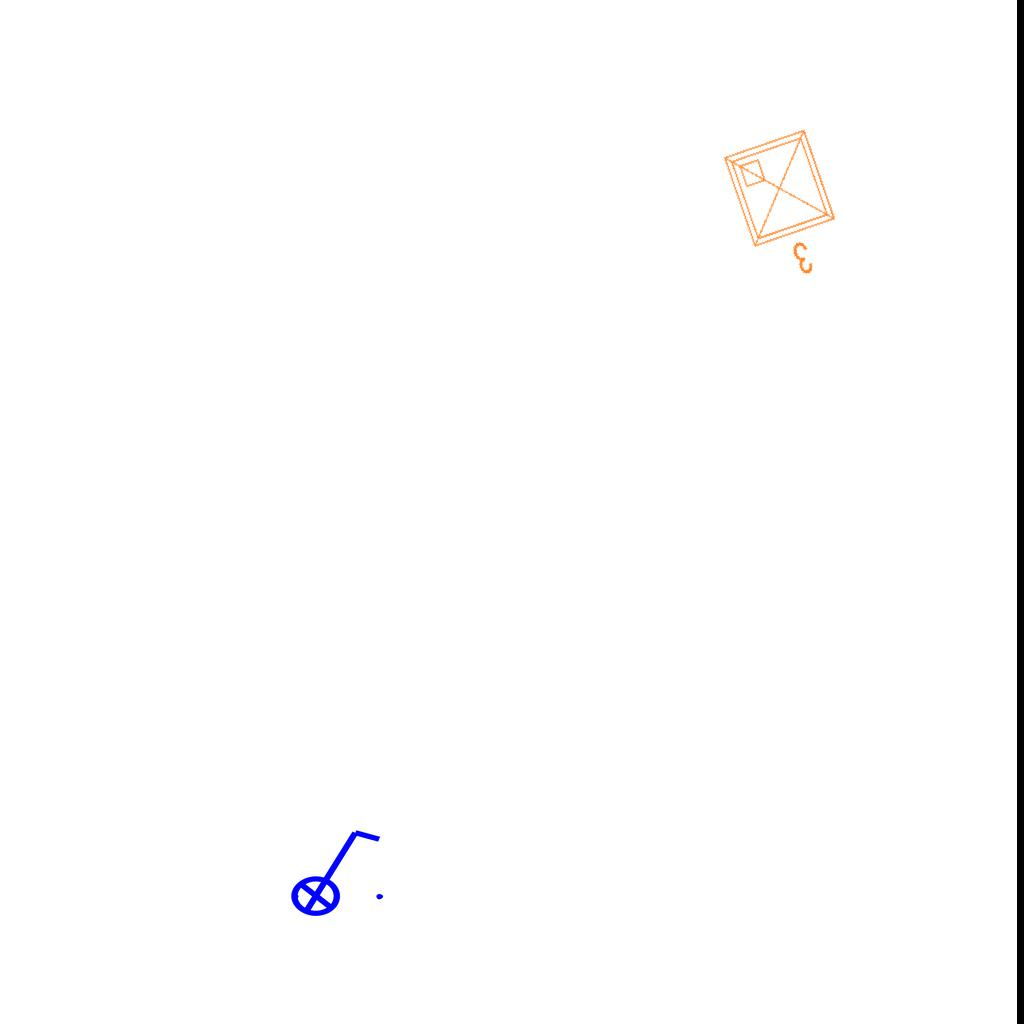Ausschalter_beleuchtet: (277, 822, 389, 918)
Einbaudownlights_LED_Konferenzraeume: (714, 119, 862, 295)
